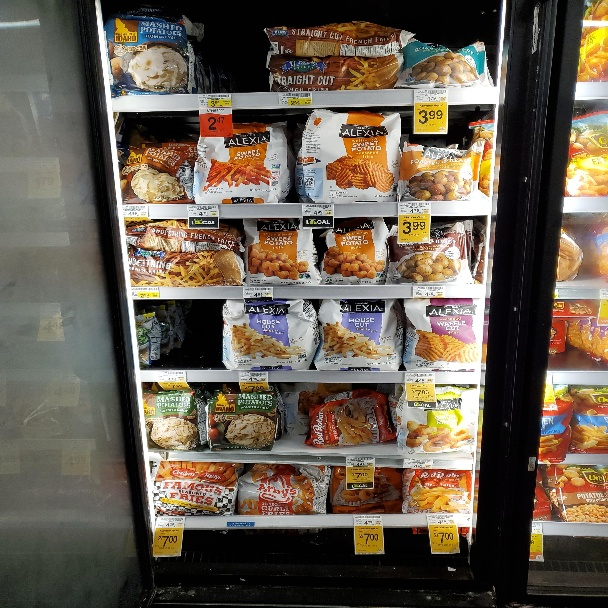All PRICE TAGS: (414, 88, 448, 101), (198, 94, 231, 107), (279, 92, 311, 105), (412, 286, 446, 298), (398, 203, 431, 215), (187, 204, 219, 216), (121, 204, 148, 217), (153, 517, 184, 528), (404, 372, 435, 383), (303, 204, 334, 215), (238, 371, 268, 382), (156, 371, 186, 382), (243, 286, 273, 297), (427, 514, 456, 525), (132, 287, 159, 298), (353, 515, 382, 525), (404, 458, 432, 467), (346, 456, 374, 465)
